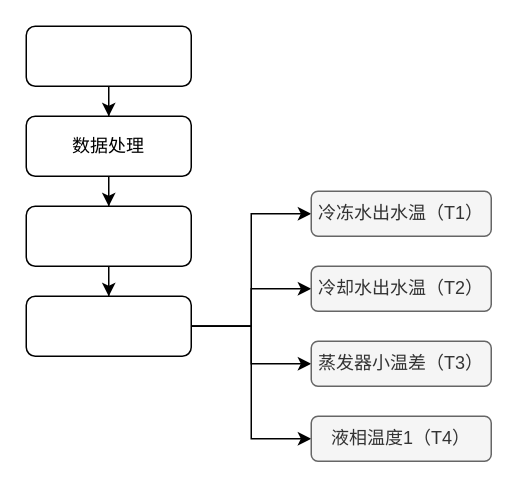
Some shapes in this 518 by 488 pixel diagram are drawn without their labels. The shapes that lost their labels are listed below. From the top down, each one's centre as x and y in pixels, then its label:
the point at 108,55: 数据收集
the point at 108,235: 相关性分析
the point at 108,325: 特征参数选取
